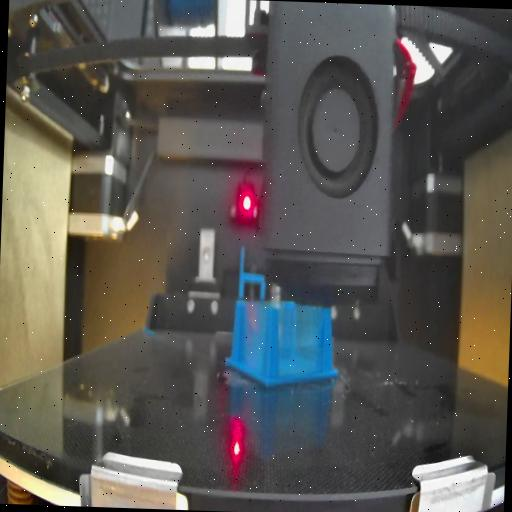stringing: (272, 304, 326, 380), (234, 300, 269, 382)
